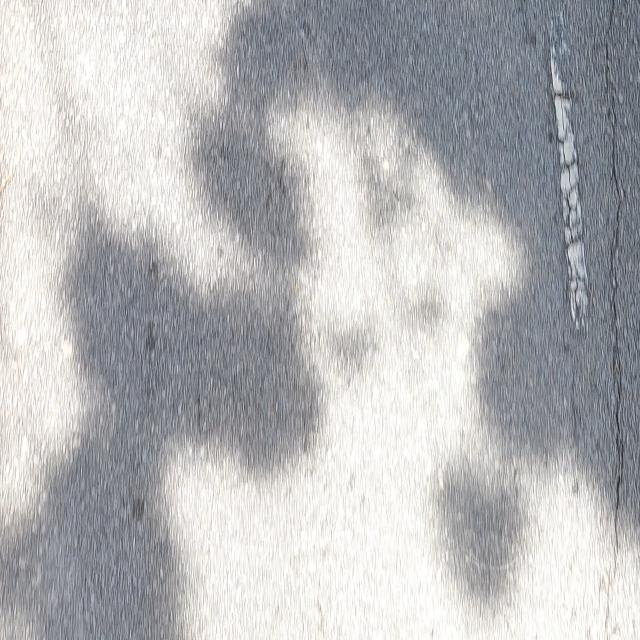Retak-Memanjang: (599, 3, 628, 548)
